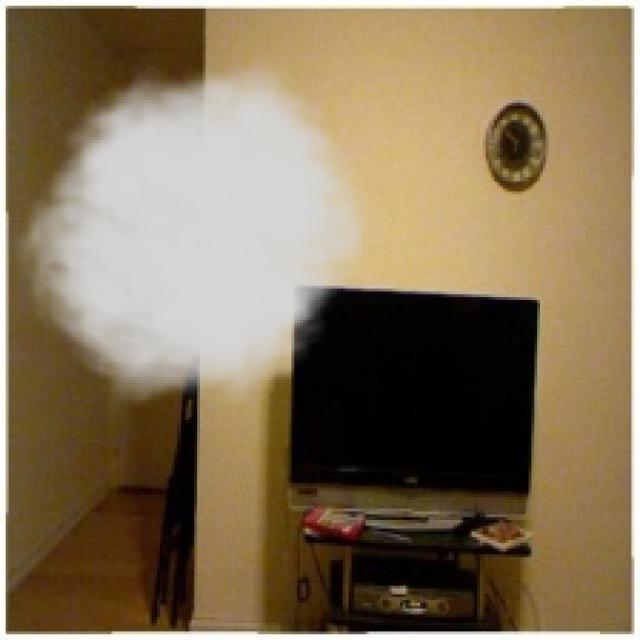Smoke: (8, 51, 383, 406)
